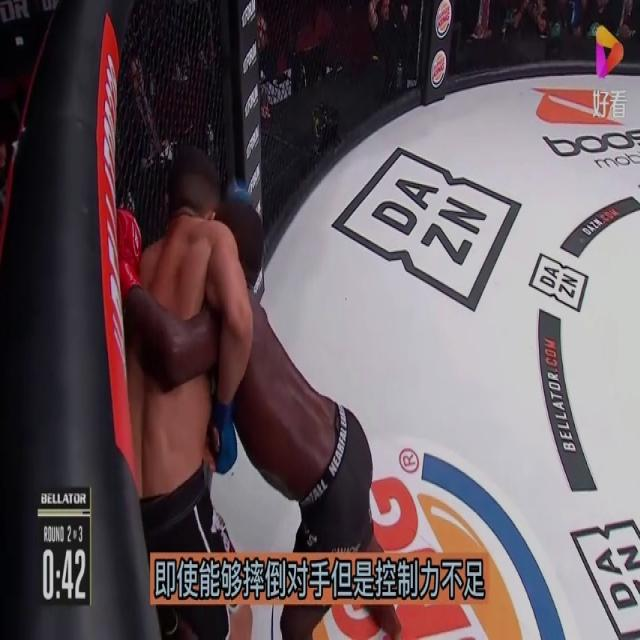fight: (114, 139, 396, 637)
